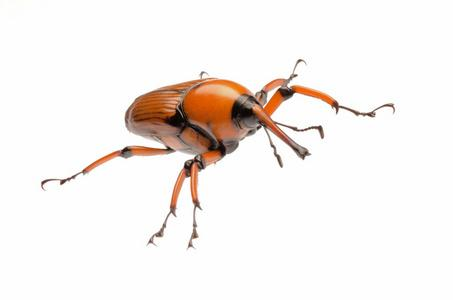Curculionidae: (39, 58, 396, 249)
